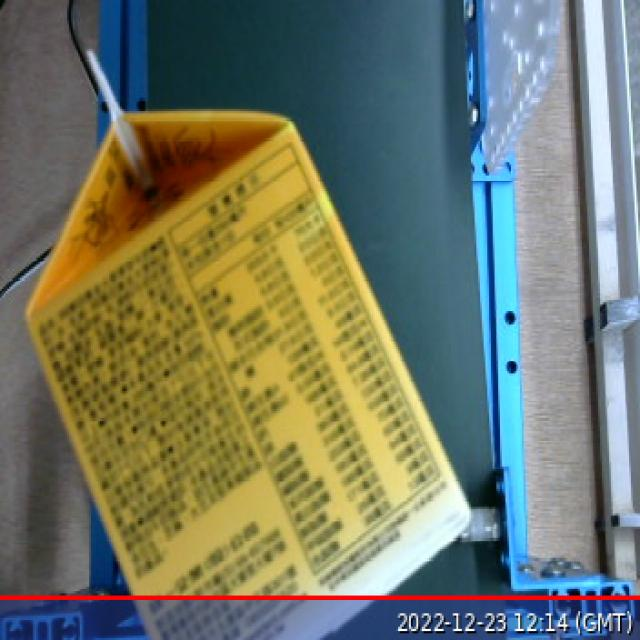non_white_jug: (8, 29, 503, 640)
